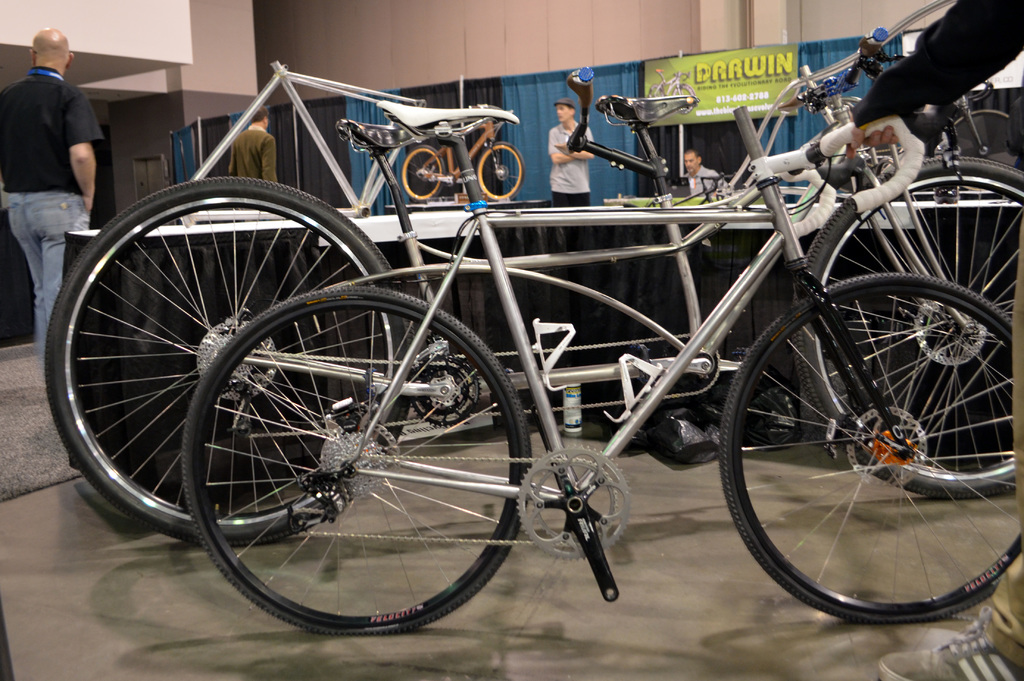Bike: (225, 106, 954, 660)
